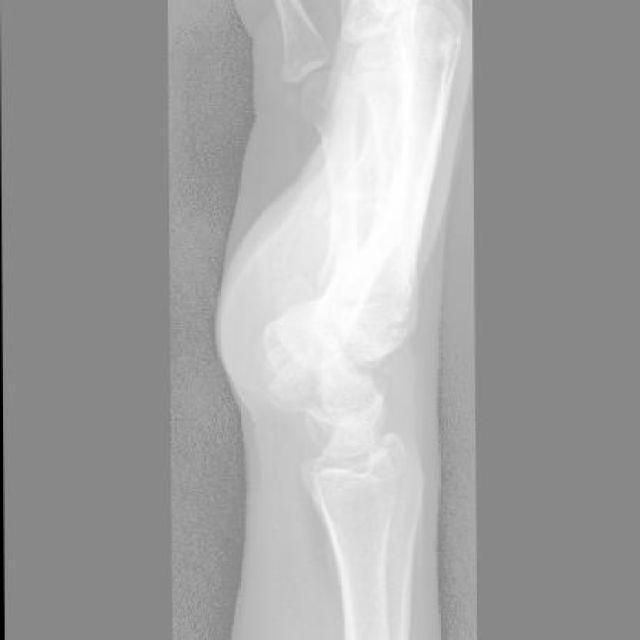Fracture: (337, 305, 414, 345), (373, 360, 396, 380)
